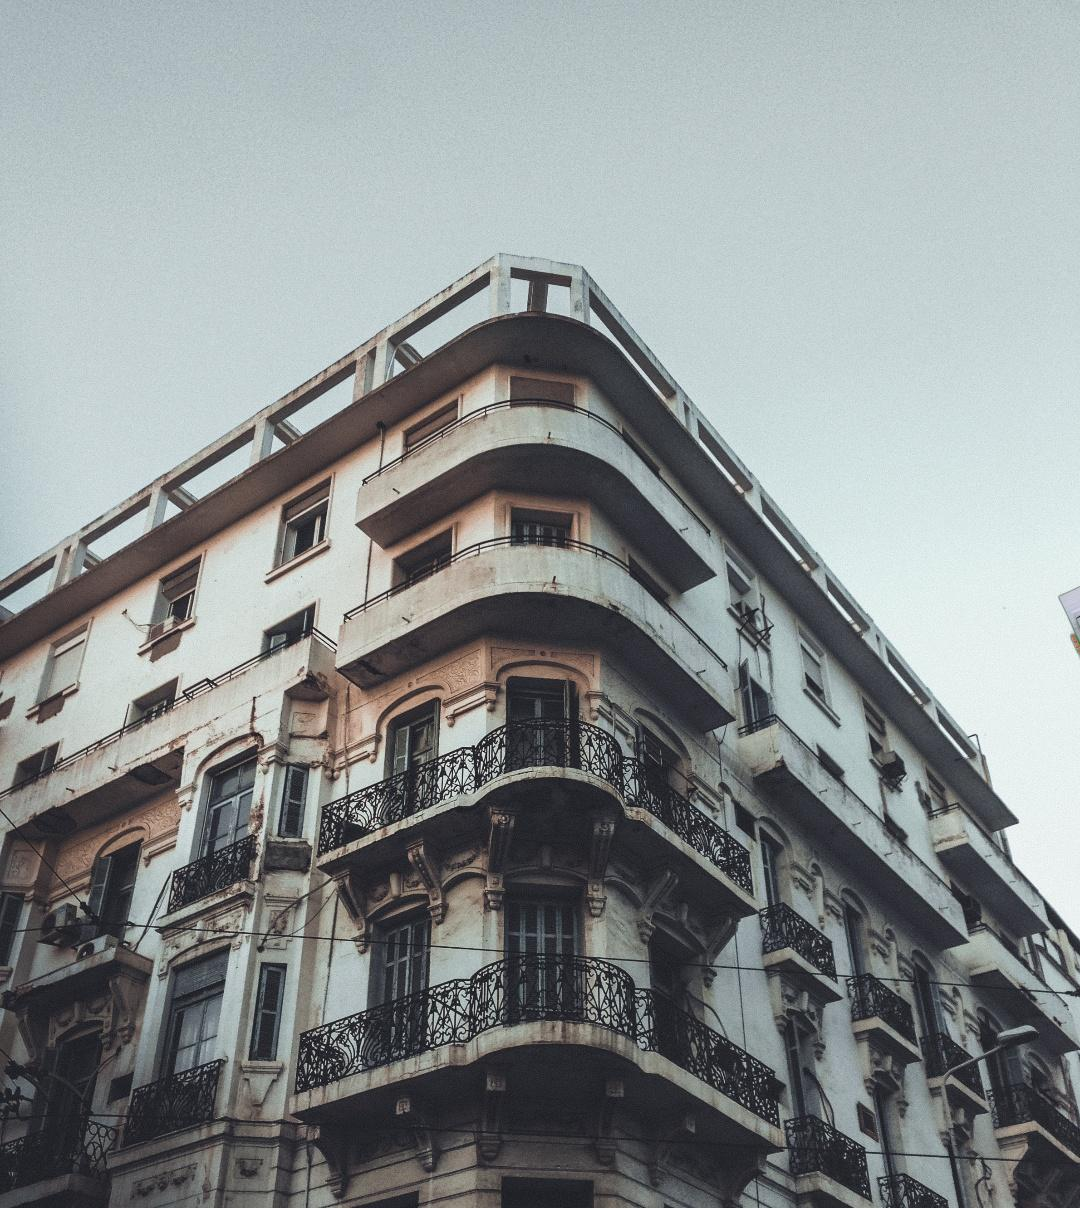battery: (1055, 457, 1080, 796)
